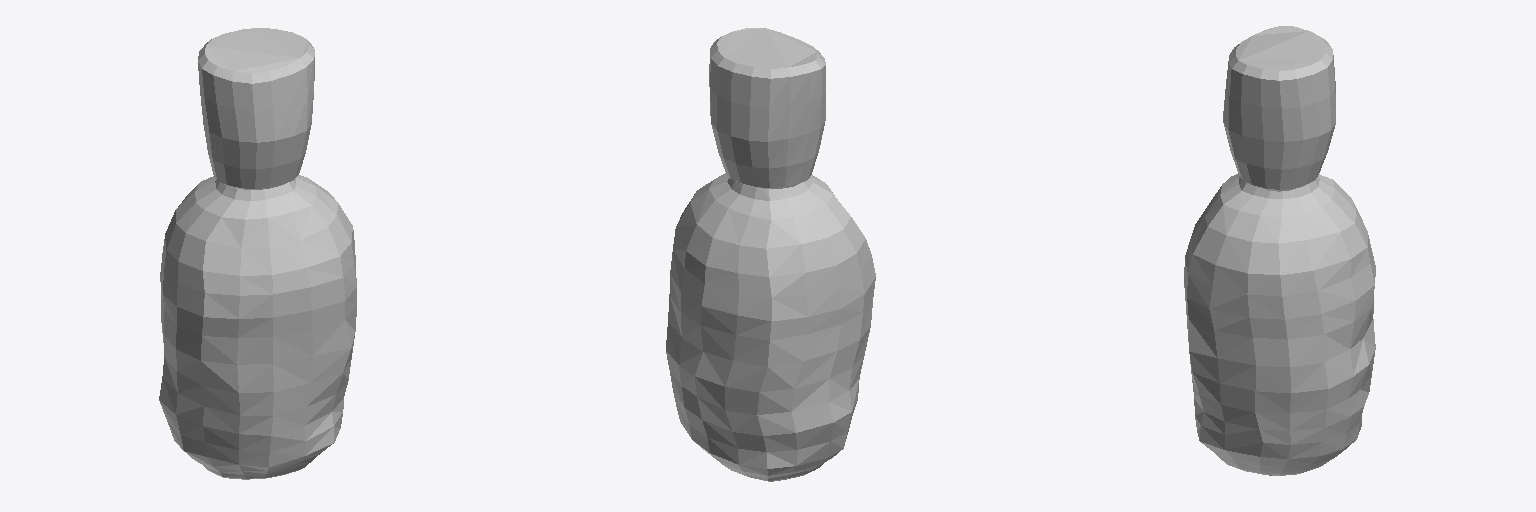
File: estus.obj
The picture shows the model from 3 angles: view 1: azimuth 30°, elevation 25°; view 2: azimuth 150°, elevation 25°; view 3: azimuth 270°, elevation 25°; orthographic projection.
Parts seen in each view (by area): view 1: mesh0; view 2: mesh0; view 3: mesh0.
Boxes of the visible parts, <box> form: mesh0: <box>159,28,356,479</box>; mesh0: <box>666,28,875,481</box>; mesh0: <box>1184,26,1375,475</box>.
Size of the model in its own units: 0.3512 by 0.7923 by 0.3316.